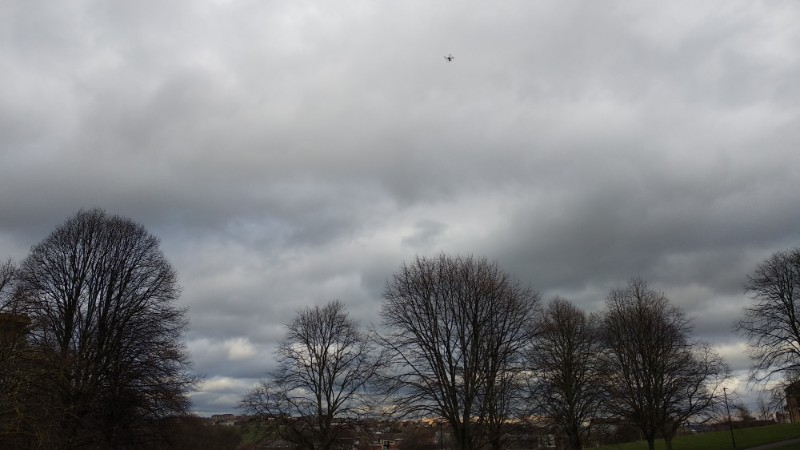drone: (443, 53, 455, 62)
